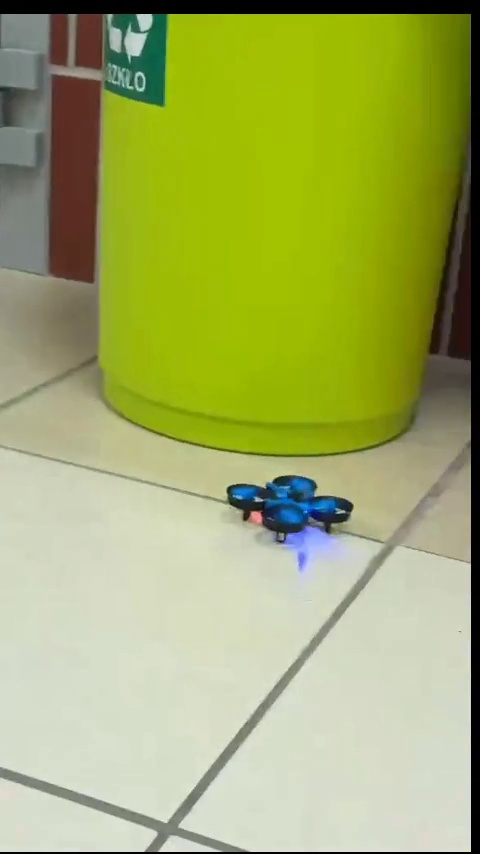drone: (218, 471, 353, 537)
